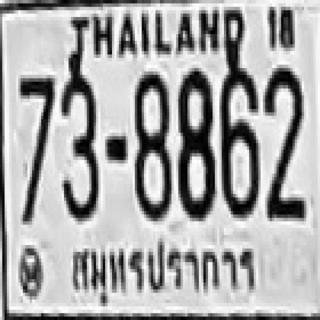N02: (264, 65, 303, 208)
N03: (59, 68, 98, 218)
N06: (219, 63, 258, 216)
N07: (18, 75, 53, 221)
N08: (132, 68, 169, 218), (176, 68, 212, 218)
P57: (66, 237, 262, 307)
